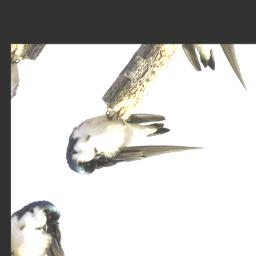Swallow: (49, 82, 210, 219)
